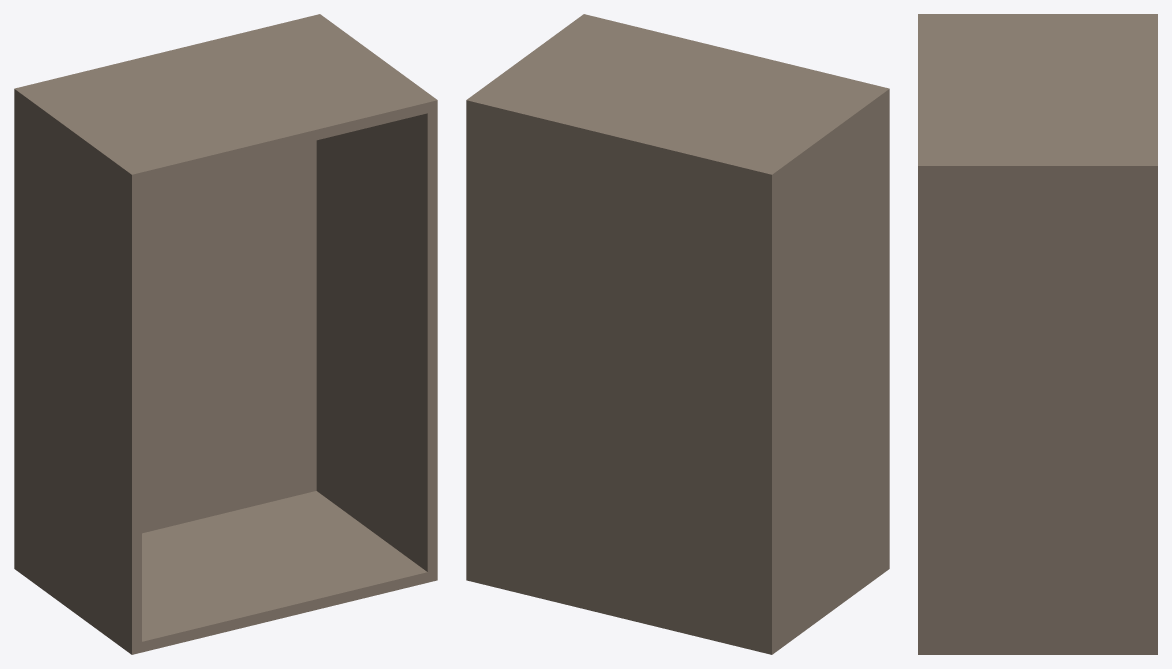
The model's file is Kitchen1_C5_07.fbx.
The picture shows the model from 3 angles, left to right: view 1: azimuth 30°, elevation 25°; view 2: azimuth 150°, elevation 25°; view 3: azimuth 270°, elevation 25°; orthographic projection.
Parts seen in each view (by area): view 1: Kitchen1_C5_07; view 2: Kitchen1_C5_07; view 3: Kitchen1_C5_07.
Part boxes in pixels (bbox=[...]): Kitchen1_C5_07: bbox=[14, 14, 437, 654]; Kitchen1_C5_07: bbox=[466, 14, 889, 654]; Kitchen1_C5_07: bbox=[918, 14, 1157, 654].
Bounding box in the file's own units: 60 × 90 × 40.
